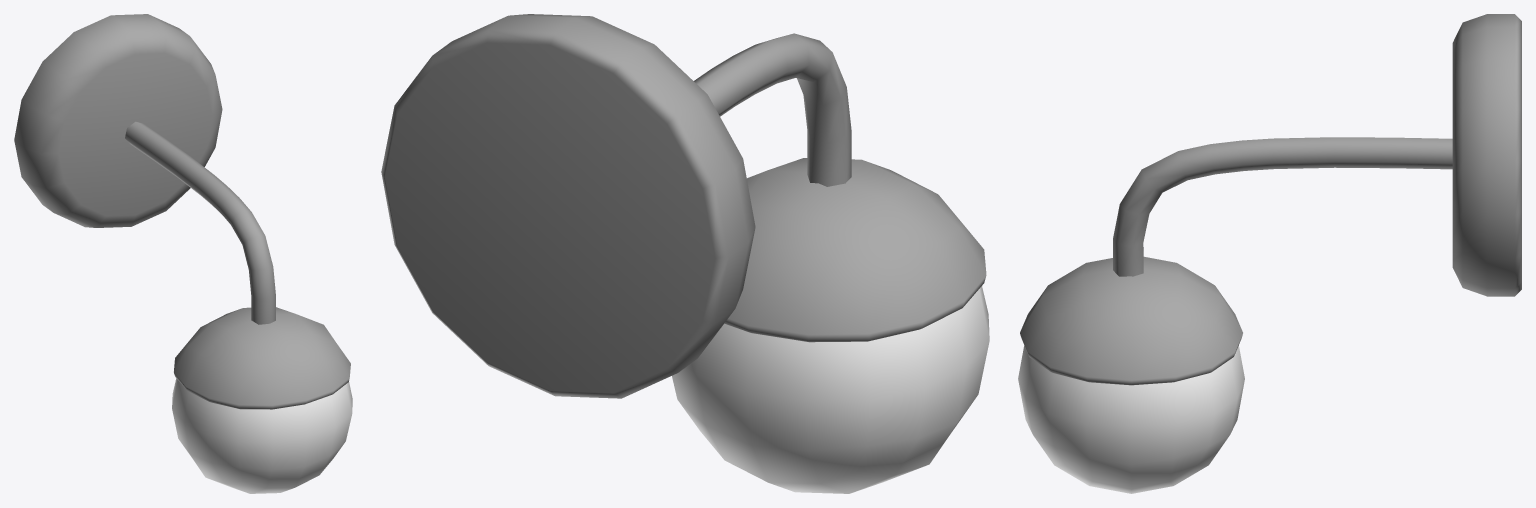
File: Lamp_4.glb
The picture shows the model from 3 angles, left to right: view 1: azimuth 30°, elevation 25°; view 2: azimuth 150°, elevation 25°; view 3: azimuth 270°, elevation 25°; orthographic projection. The views are drawn at different scales.
Parts seen in each view (by area): view 1: Wall_Lamp_2; view 2: Wall_Lamp_2; view 3: Wall_Lamp_2.
Boxes of the visible parts, x1,y1,x2,y2 form: Wall_Lamp_2: (14,14,352,493); Wall_Lamp_2: (381,14,989,493); Wall_Lamp_2: (1018,14,1521,493).
Bounding box in the file's own units: 0.5391 × 0.956 × 0.9604.
Materials: 2 (1 with a texture image).
